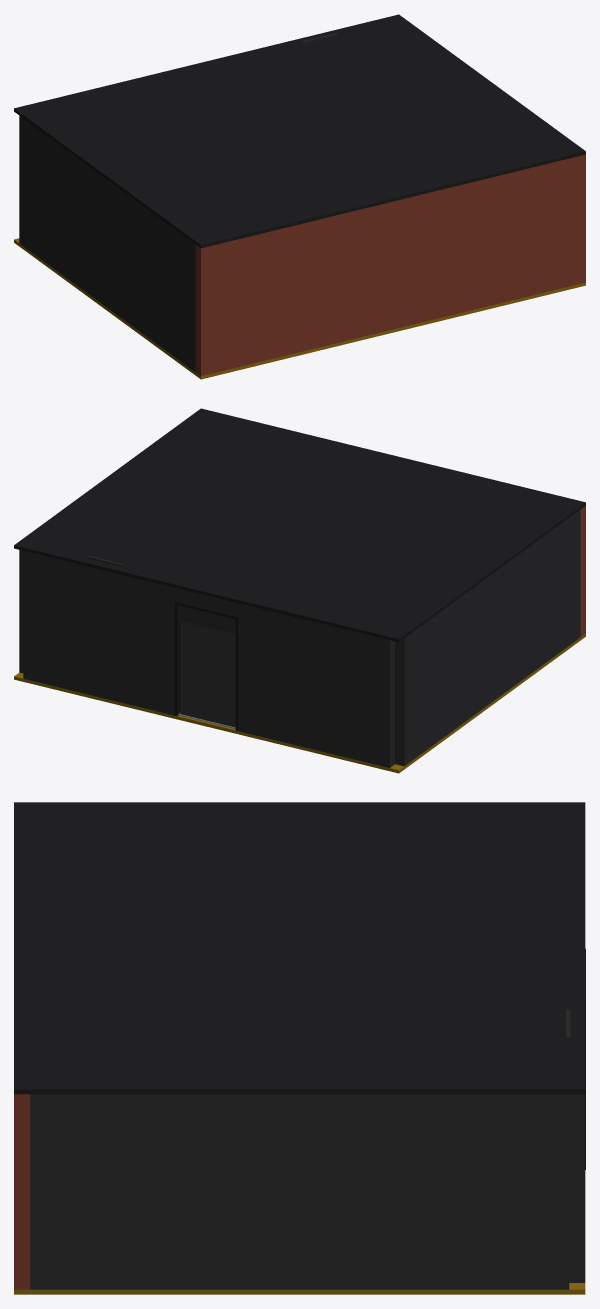
Rendered from musician-guitar-room.glb.
3 renders of one model, top to bottom at view 1: azimuth 30°, elevation 25°; view 2: azimuth 150°, elevation 25°; view 3: azimuth 270°, elevation 25°, orthographic. The views are drawn at different scales.
Parts seen in each view (by area): view 1: Ceiling, Wall_Back_Brick, Wall_Left, Floor; view 2: Ceiling, Wall_Left, Wall_Front_L, Wall_Front_R, Door_Slab, Floor, Door_Header, Wall_Back_Brick, Door_Jamb_R, Wall_Right; view 3: Ceiling, Wall_Right, Floor, Wall_Back_Brick, Wall_Front_R.
Boxes of the visible parts, <box> form: Ceiling: <box>14,14,585,248</box>; Wall_Back_Brick: <box>195,154,585,376</box>; Wall_Left: <box>19,116,195,371</box>; Floor: <box>14,238,585,379</box>; Ceiling: <box>14,408,585,642</box>; Wall_Left: <box>395,510,580,766</box>; Wall_Front_L: <box>237,603,394,767</box>; Wall_Front_R: <box>23,551,175,715</box>; Door_Slab: <box>180,621,235,727</box>; Floor: <box>14,634,585,773</box>; Door_Header: <box>176,588,236,634</box>; Wall_Back_Brick: <box>580,506,585,636</box>; Door_Jamb_R: <box>174,604,180,716</box>; Wall_Right: <box>19,550,23,673</box>; Ceiling: <box>14,802,585,1094</box>; Wall_Right: <box>30,1094,569,1289</box>; Floor: <box>14,1283,585,1294</box>; Wall_Back_Brick: <box>14,1094,30,1289</box>; Wall_Front_R: <box>569,1094,585,1282</box>.
Size of the model in its own units: 12.6 by 4.25 by 10.61.
